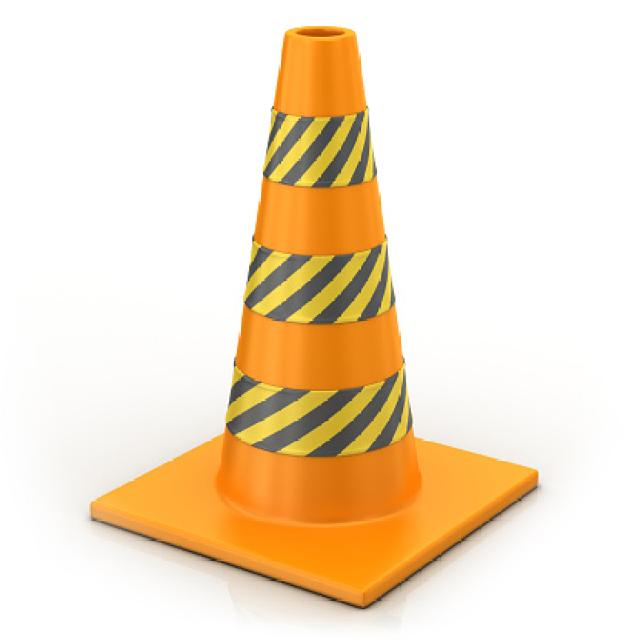cone: (89, 26, 537, 605)
